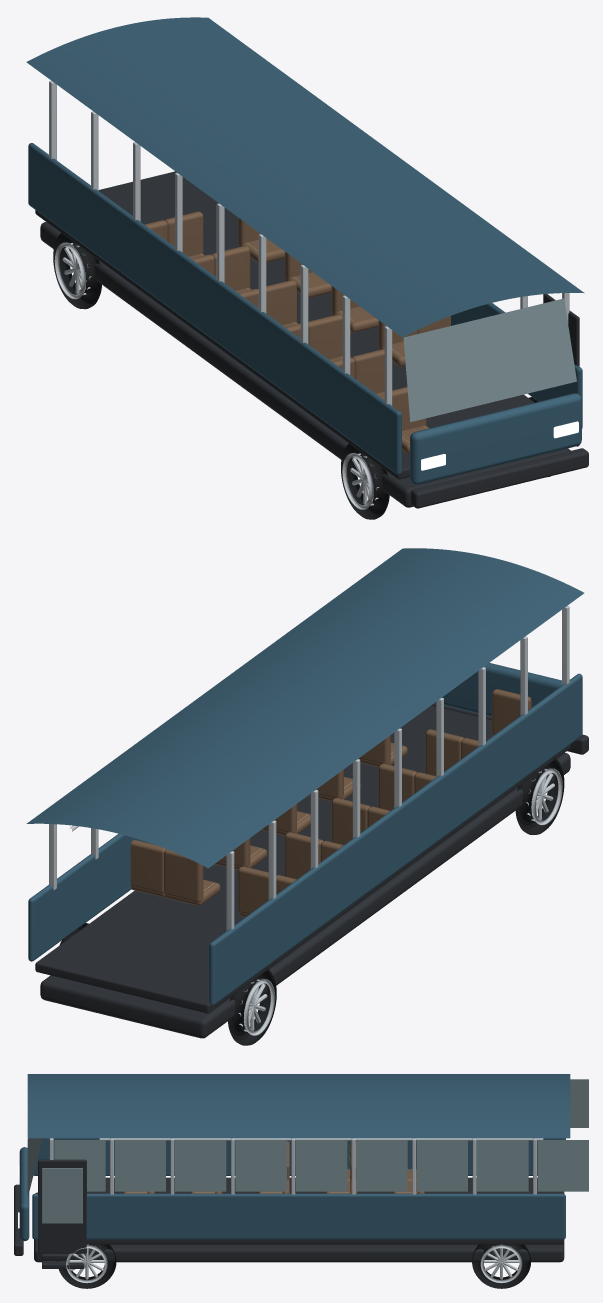
The model's file is bus.glb.
3 views of the same model, one above another, from view 1: azimuth 30°, elevation 25°; view 2: azimuth 150°, elevation 25°; view 3: azimuth 270°, elevation 25° (orthographic). The views are drawn at different scales.
Visible parts, largest first — view 1: CrownedBusRoof, LowerBody, Windscreen, Floor, FrontPanel, Chassis, FrontBumper, LeftRearWheelTyre, LeftFrontWheelTyre, LowerBody.001, PassengerBack.002, PassengerBack.004 (+9 smaller); view 2: CrownedBusRoof, LowerBody, Floor, Chassis, LowerBody.001, FrontPanel, PassengerBack.018, PassengerBack.019, LeftFrontWheelTyre, LeftRearWheelTyre, PassengerBack.008, PassengerBack.006 (+10 smaller); view 3: CrownedBusRoof, LowerBody.001, Chassis, Floor, SideWindow.010, SideWindow.011, SideWindow.012, SideWindow.013, SideWindow.014, SideWindow.015, SideWindow.016, SideWindow.017 (+14 smaller).
Part boxes in pixels (box(x1,y1,x2,y2)): CrownedBusRoof: box(26, 17, 584, 337); LowerBody: box(28, 143, 401, 474); Windscreen: box(403, 298, 576, 421); Floor: box(35, 171, 534, 479); FrontPanel: box(410, 393, 581, 484); Chassis: box(40, 222, 568, 507); FrontBumper: box(410, 448, 588, 508); LeftRearWheelTyre: box(53, 231, 101, 309); LeftFrontWheelTyre: box(341, 442, 389, 519); LowerBody.001: box(451, 303, 582, 428); PassengerBack.002: box(308, 314, 342, 359); PassengerBack.004: box(266, 280, 296, 325); CrownedBusRoof: box(26, 548, 584, 868); LowerBody: box(209, 673, 582, 1005); Floor: box(35, 705, 570, 1013); Chassis: box(40, 753, 570, 1038); LowerBody.001: box(28, 833, 151, 961); FrontPanel: box(435, 663, 561, 716); PassengerBack.018: box(164, 849, 203, 902); PassengerBack.019: box(130, 840, 166, 893); LeftFrontWheelTyre: box(515, 757, 564, 834); LeftRearWheelTyre: box(228, 967, 276, 1045); PassengerBack.008: box(238, 866, 276, 914); PassengerBack.006: box(285, 832, 323, 879); CrownedBusRoof: box(27, 1074, 570, 1138); LowerBody.001: box(32, 1193, 565, 1239); Chassis: box(34, 1192, 564, 1262); Floor: box(87, 1177, 564, 1244); SideWindow.010: box(114, 1140, 165, 1191); SideWindow.011: box(175, 1140, 226, 1191); SideWindow.012: box(235, 1140, 286, 1191); SideWindow.013: box(296, 1140, 347, 1191); SideWindow.014: box(356, 1140, 407, 1191); SideWindow.015: box(416, 1140, 467, 1191); SideWindow.016: box(477, 1140, 528, 1191); SideWindow.017: box(537, 1140, 588, 1191).
Size of the model in its own units: 2.5 by 2.76 by 8.95.
